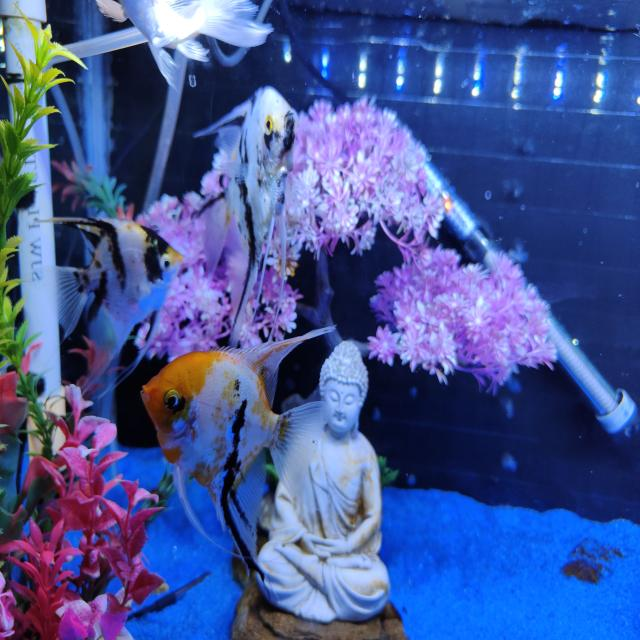Fish: (141, 327, 332, 572), (194, 87, 296, 346), (49, 218, 181, 388), (95, 0, 271, 88)
